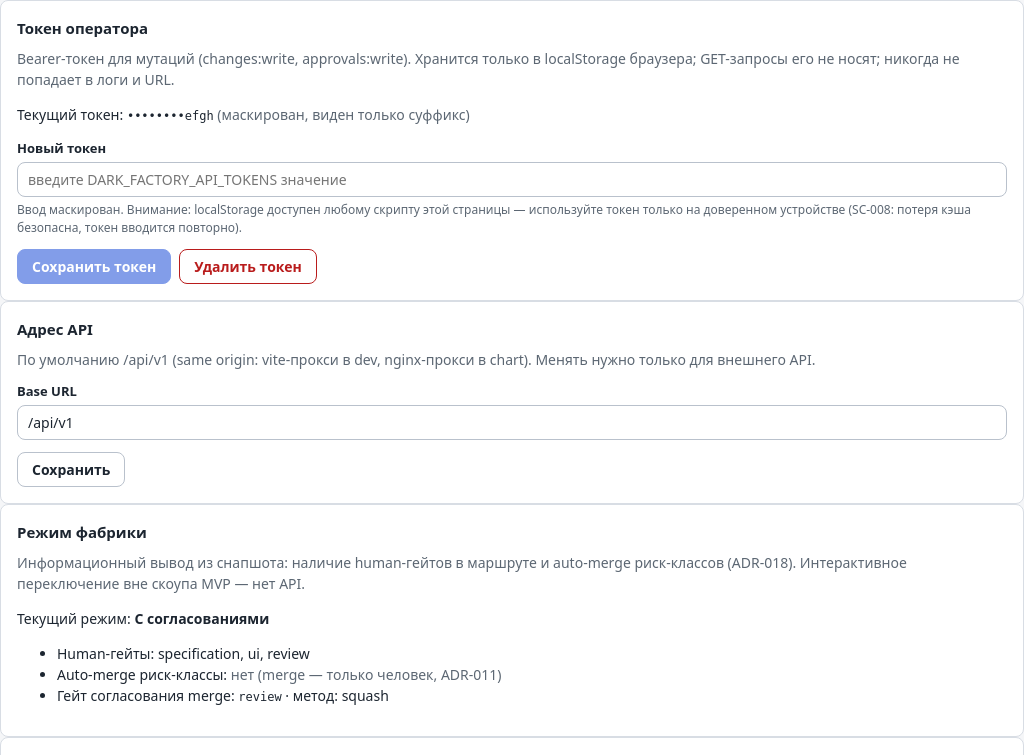
Test: SettingsPage › removes the stored token on demand
Click the button "Удалить токен": (248, 266) [179,249,317,284]
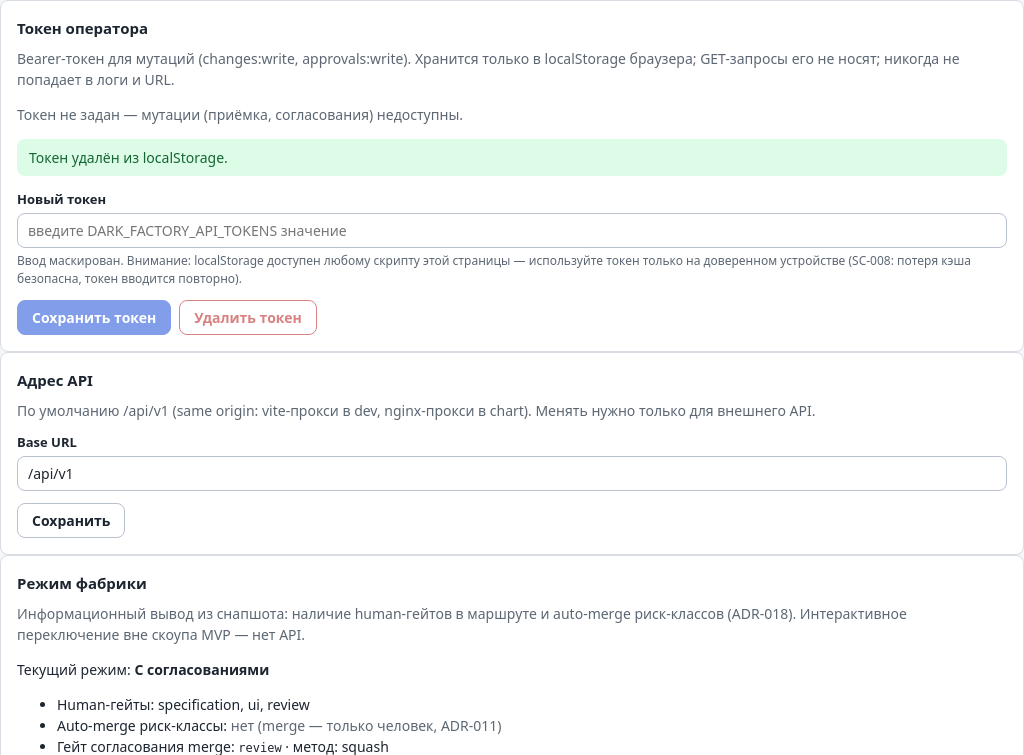
Expected: the text with test id "token-absent" shows "Токен не задан", [17,104,463,124]
